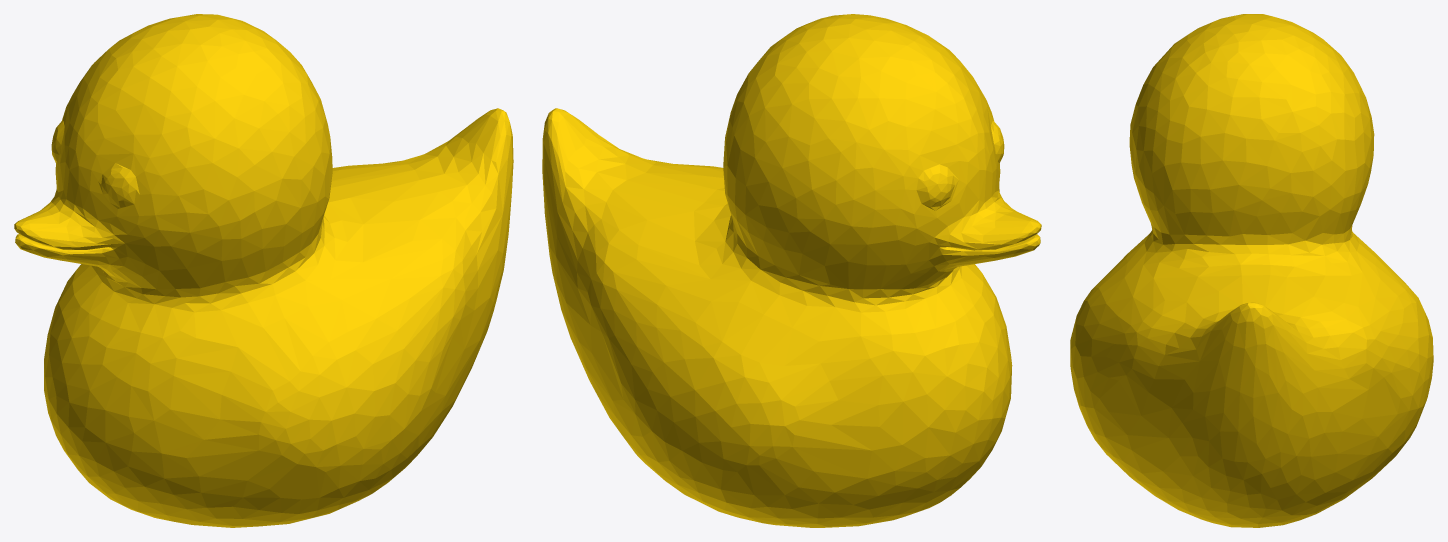
Rendered from duck_low.glb.
3 views of the same model, side by side, from view 1: azimuth 30°, elevation 25°; view 2: azimuth 150°, elevation 25°; view 3: azimuth 270°, elevation 25° (orthographic). The views are drawn at different scales.
Visible parts, largest first — view 1: M_duckToy_HP; view 2: M_duckToy_HP; view 3: M_duckToy_HP.
Part boxes in pixels (x1,y1,x2,y2): M_duckToy_HP: [14, 14, 513, 527]; M_duckToy_HP: [542, 14, 1041, 527]; M_duckToy_HP: [1070, 14, 1433, 527].
Bounding box in the file's own units: 7.57 × 7.18 × 5.33.
